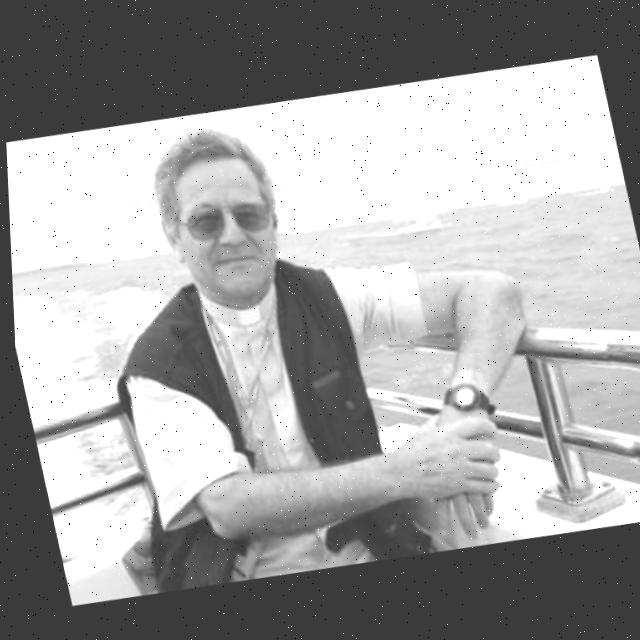face: (148, 143, 306, 313)
